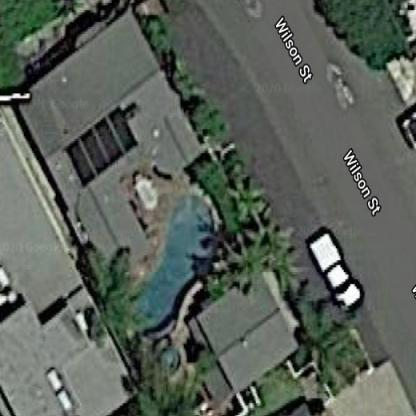car: (308, 214, 370, 328)
solar_panel: (58, 107, 151, 185)
swimming_pool: (120, 182, 252, 346)
